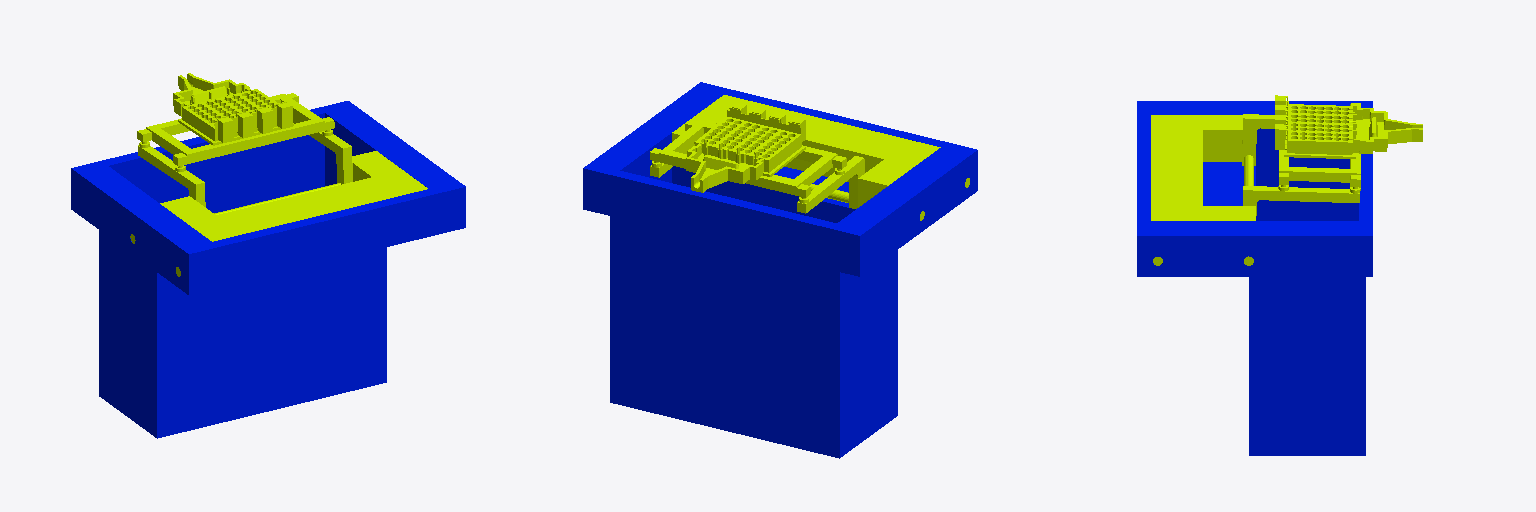
File: VDC.obj
3 renders of one model, left to right at view 1: azimuth 30°, elevation 25°; view 2: azimuth 150°, elevation 25°; view 3: azimuth 270°, elevation 25°, orthographic.
Visible parts, largest first — view 1: VDC_Assembly_v2.001; view 2: VDC_Assembly_v2.001; view 3: VDC_Assembly_v2.001.
Boxes of the visible parts, box(x1,y1,x2,y2) form: VDC_Assembly_v2.001: box(71, 73, 465, 438); VDC_Assembly_v2.001: box(583, 82, 977, 458); VDC_Assembly_v2.001: box(1137, 95, 1422, 455).
Size of the model in its own units: 458 by 453 by 409.